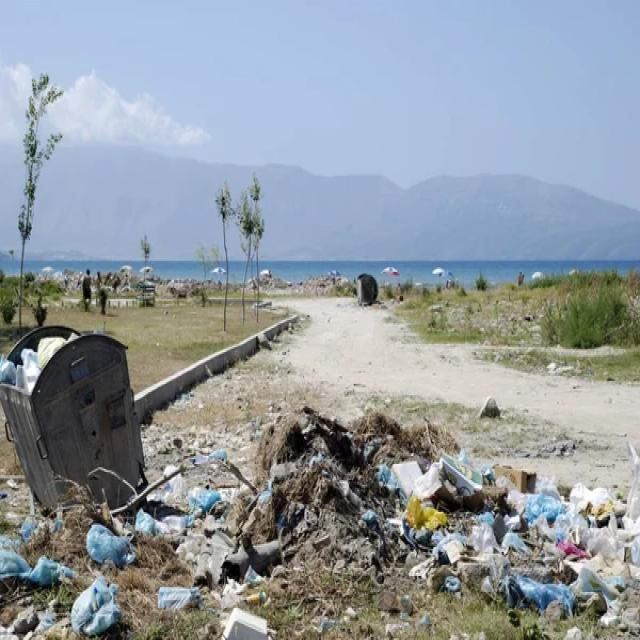garbage: (45, 397, 616, 626)
